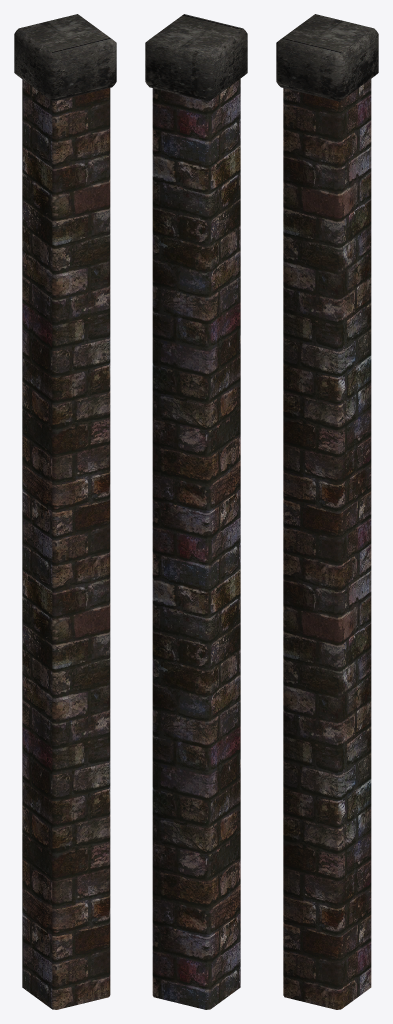
Rendered from pillar_high_single.DAE.
3 renders of one model, left to right at view 1: azimuth 30°, elevation 25°; view 2: azimuth 150°, elevation 25°; view 3: azimuth 330°, elevation 25°, orthographic.
Visible parts, largest first — view 1: high_pillars_post_single, high_pillars_single_cap; view 2: high_pillars_post_single, high_pillars_single_cap; view 3: high_pillars_post_single, high_pillars_single_cap.
Boxes of the visible parts, x1,y1,x2,y2 form: high_pillars_post_single: [22, 79, 110, 1009]; high_pillars_single_cap: [14, 14, 116, 101]; high_pillars_post_single: [152, 79, 240, 1009]; high_pillars_single_cap: [145, 14, 247, 101]; high_pillars_post_single: [283, 79, 371, 1009]; high_pillars_single_cap: [276, 14, 378, 101].
Bounding box in the file's own units: 0.4683 × 0.4732 × 6.31.
